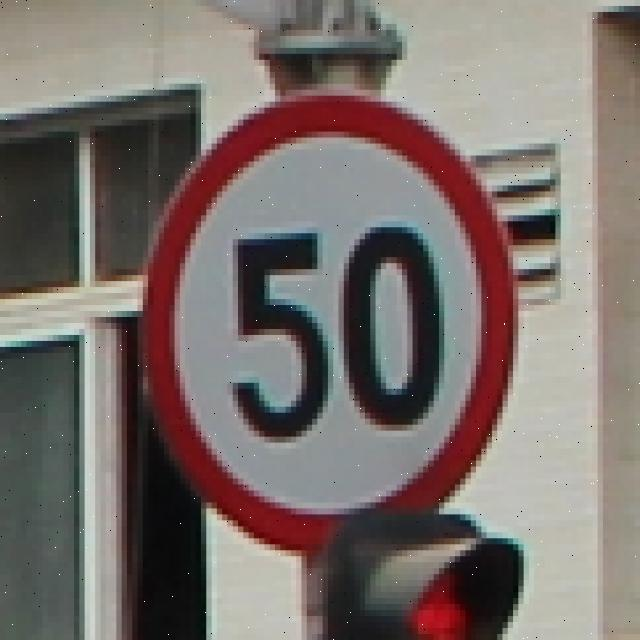speed limit 50: (145, 91, 518, 548)
